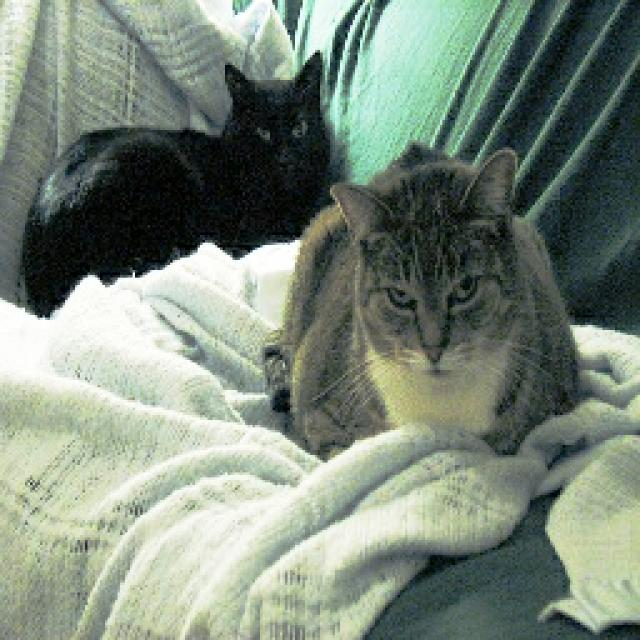cat: (259, 143, 590, 460), (19, 55, 333, 312)
